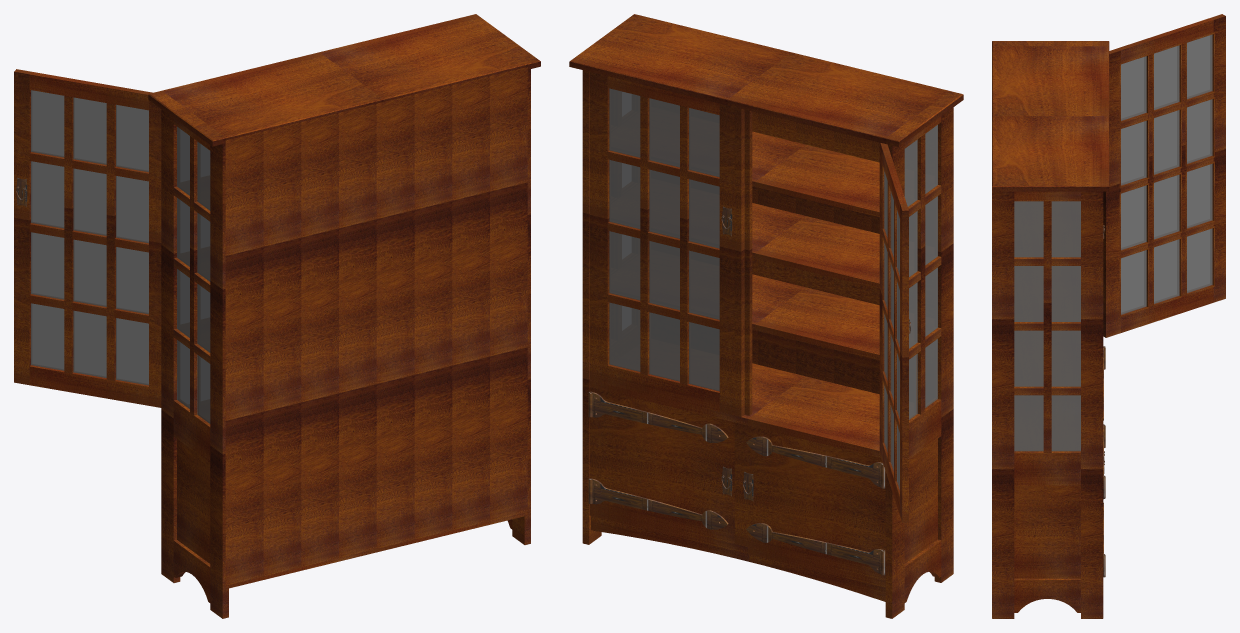
The picture shows the model from 3 angles, left to right: view 1: azimuth 30°, elevation 25°; view 2: azimuth 150°, elevation 25°; view 3: azimuth 270°, elevation 25°; orthographic projection. The views are drawn at different scales.
Parts seen in each view (by area): view 1: mesh1_mesh1-geometry, mesh227_mesh227-geometry, mesh231_mesh231-geometry, mesh233_mesh233-geometry, mesh225_mesh225-geometry, mesh219_mesh219-geometry, mesh221_mesh221-geometry, mesh223_mesh223-geometry, mesh229_mesh229-geometry, mesh111_mesh111-geometry, mesh139_mesh139-geometry, mesh448_mesh448-geometry (+31 smaller); view 2: mesh1_mesh1-geometry, mesh578_mesh578-geometry, mesh589_mesh589-geometry, mesh217_mesh217-geometry, mesh111_mesh111-geometry, mesh257_mesh257-geometry, mesh255_mesh255-geometry, mesh253_mesh253-geometry, mesh291_mesh291-geometry, mesh279_mesh279-geometry, mesh33_mesh33-geometry, mesh580_mesh580-geometry (+44 smaller); view 3: mesh1_mesh1-geometry, mesh5_mesh5-geometry, mesh33_mesh33-geometry, mesh49_mesh49-geometry, mesh460_mesh460-geometry, mesh448_mesh448-geometry, mesh53_mesh53-geometry, mesh55_mesh55-geometry, mesh47_mesh47-geometry, mesh7_mesh7-geometry, mesh9_mesh9-geometry, mesh89_mesh89-geometry (+22 smaller).
Part boxes in pixels (bbox=[...]): mesh1_mesh1-geometry: bbox=[148, 14, 540, 146]; mesh227_mesh227-geometry: bbox=[414, 85, 452, 539]; mesh231_mesh231-geometry: bbox=[376, 94, 414, 548]; mesh233_mesh233-geometry: bbox=[225, 131, 263, 585]; mesh225_mesh225-geometry: bbox=[263, 122, 301, 576]; mesh219_mesh219-geometry: bbox=[452, 76, 489, 530]; mesh221_mesh221-geometry: bbox=[490, 67, 527, 521]; mesh223_mesh223-geometry: bbox=[301, 113, 338, 567]; mesh229_mesh229-geometry: bbox=[339, 104, 376, 557]; mesh111_mesh111-geometry: bbox=[210, 143, 228, 618]; mesh139_mesh139-geometry: bbox=[161, 109, 180, 582]; mesh448_mesh448-geometry: bbox=[14, 69, 31, 385]; mesh1_mesh1-geometry: bbox=[569, 14, 963, 146]; mesh578_mesh578-geometry: bbox=[589, 387, 734, 543]; mesh589_mesh589-geometry: bbox=[741, 424, 885, 580]; mesh217_mesh217-geometry: bbox=[589, 363, 880, 457]; mesh111_mesh111-geometry: bbox=[934, 107, 953, 582]; mesh257_mesh257-geometry: bbox=[752, 131, 879, 217]; mesh255_mesh255-geometry: bbox=[752, 203, 879, 288]; mesh253_mesh253-geometry: bbox=[752, 274, 879, 359]; mesh291_mesh291-geometry: bbox=[589, 72, 609, 384]; mesh279_mesh279-geometry: bbox=[719, 103, 734, 415]; mesh33_mesh33-geometry: bbox=[582, 70, 601, 544]; mesh580_mesh580-geometry: bbox=[588, 391, 728, 529]; mesh1_mesh1-geometry: bbox=[992, 41, 1109, 191]; mesh5_mesh5-geometry: bbox=[992, 191, 1014, 618]; mesh33_mesh33-geometry: bbox=[1081, 191, 1103, 618]; mesh49_mesh49-geometry: bbox=[1014, 485, 1080, 578]; mesh460_mesh460-geometry: bbox=[1103, 48, 1120, 337]; mesh448_mesh448-geometry: bbox=[1210, 14, 1225, 302]; mesh53_mesh53-geometry: bbox=[1014, 451, 1080, 485]; mesh55_mesh55-geometry: bbox=[1043, 201, 1051, 452]; mesh47_mesh47-geometry: bbox=[1014, 578, 1080, 612]; mesh7_mesh7-geometry: bbox=[1014, 201, 1043, 257]; mesh9_mesh9-geometry: bbox=[1014, 395, 1043, 451]; mesh89_mesh89-geometry: bbox=[1014, 330, 1043, 386].
Bounding box in the file's own units: 0.617 × 0.7082 × 0.3432.
